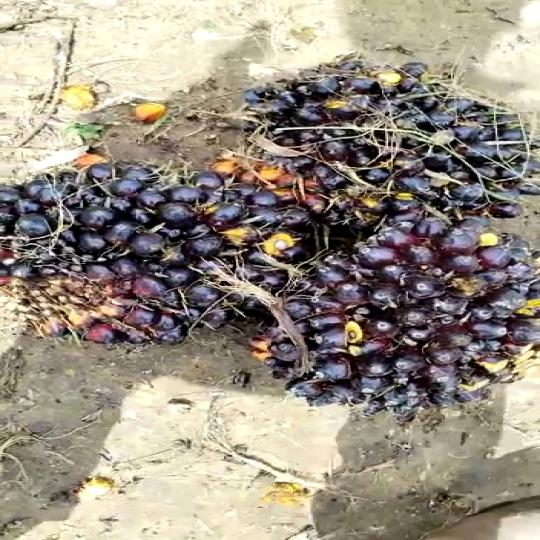mentah: (1, 156, 309, 351), (267, 225, 540, 421), (240, 53, 540, 209)
